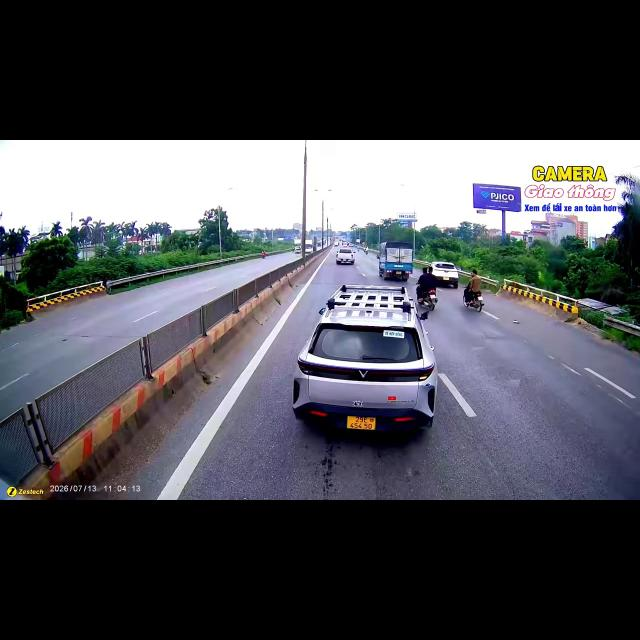car: (293, 285, 437, 430), (431, 262, 458, 288), (336, 248, 354, 264), (305, 246, 313, 253), (348, 243, 353, 246)
motorcycle: (418, 289, 437, 310), (463, 292, 483, 311)
truck: (377, 242, 413, 280), (336, 248, 356, 264), (305, 238, 315, 254), (294, 239, 301, 253)
